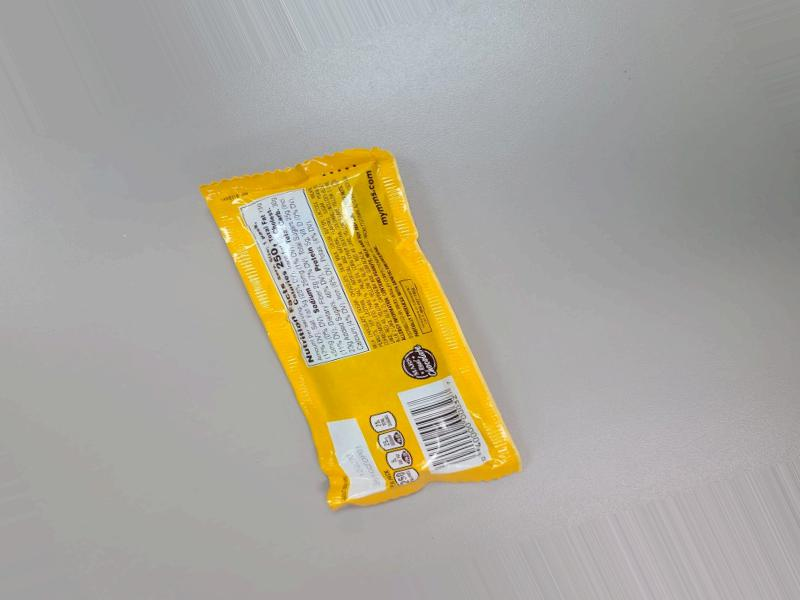m&m: (212, 155, 532, 509)
